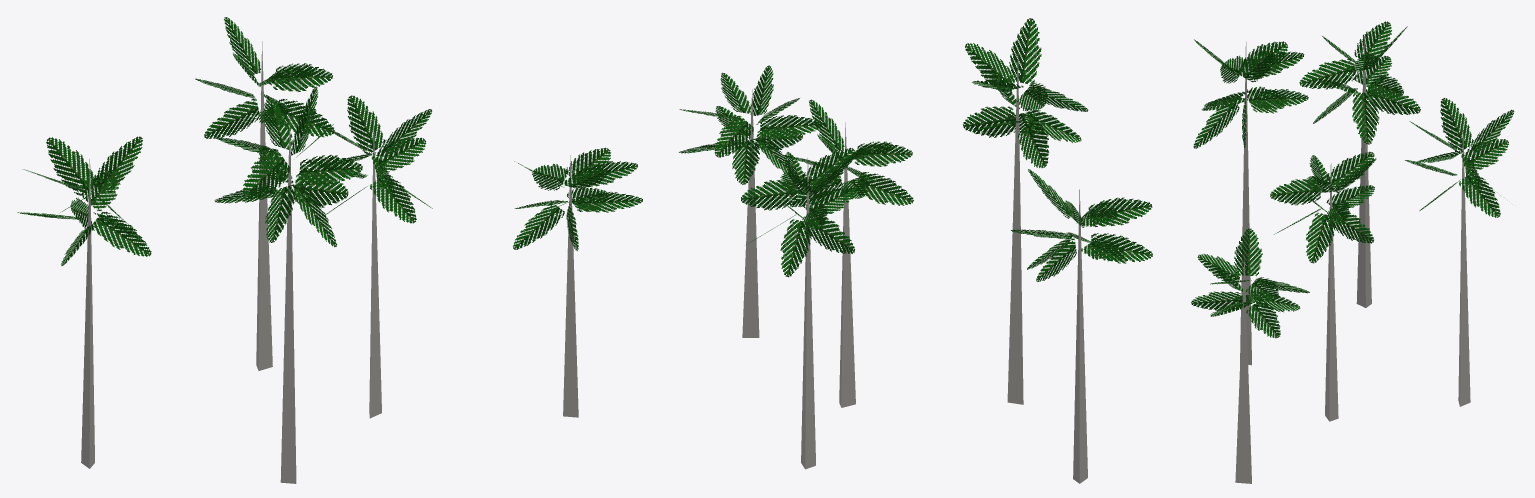
Rendered from uvmd-0032.glb.
3 renders of one model, left to right at view 1: azimuth 30°, elevation 25°; view 2: azimuth 150°, elevation 25°; view 3: azimuth 270°, elevation 25°, orthographic. The views are drawn at different scales.
Visible parts, largest first — view 1: uvmd-0032; view 2: uvmd-0032; view 3: uvmd-0032.
Boxes of the visible parts, left/top/right/bottom form: uvmd-0032: left=17, top=17, right=642, bottom=483; uvmd-0032: left=679, top=18, right=1152, bottom=483; uvmd-0032: left=1191, top=21, right=1514, bottom=483.
Size of the model in its own units: 361 by 245 by 221.
Materials: 2 (2 with a texture image).
